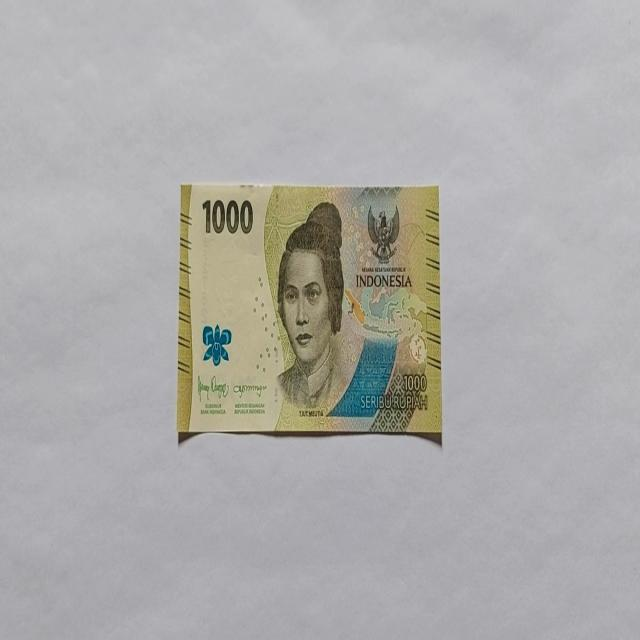seribu rupiah kertas: (176, 181, 442, 442)
